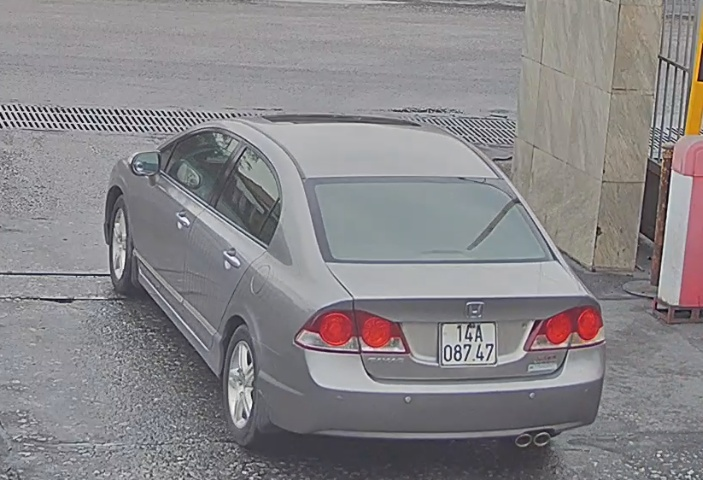vehicle plate: (429, 315, 505, 369)
